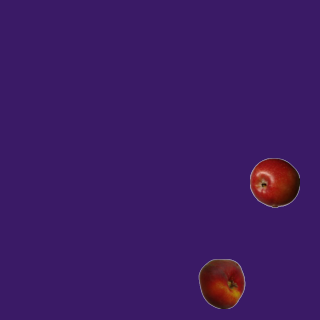Apple Braeburn: (249, 157, 299, 207)
Nectarine Flat: (196, 258, 246, 308)
